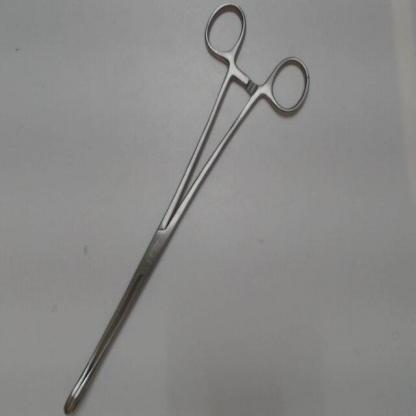Sponge Forceps: (55, 0, 317, 416)
